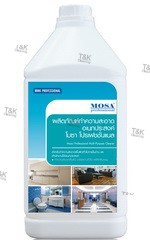Cleaning_solution: (20, 2, 131, 240)
